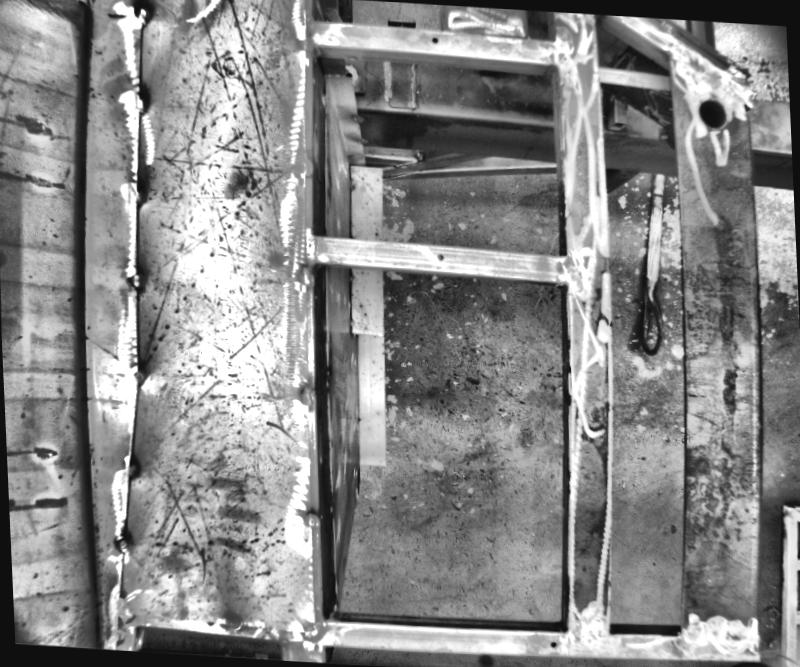hole: (692, 94, 728, 132), (434, 251, 442, 259), (548, 637, 556, 644), (429, 35, 437, 42)
